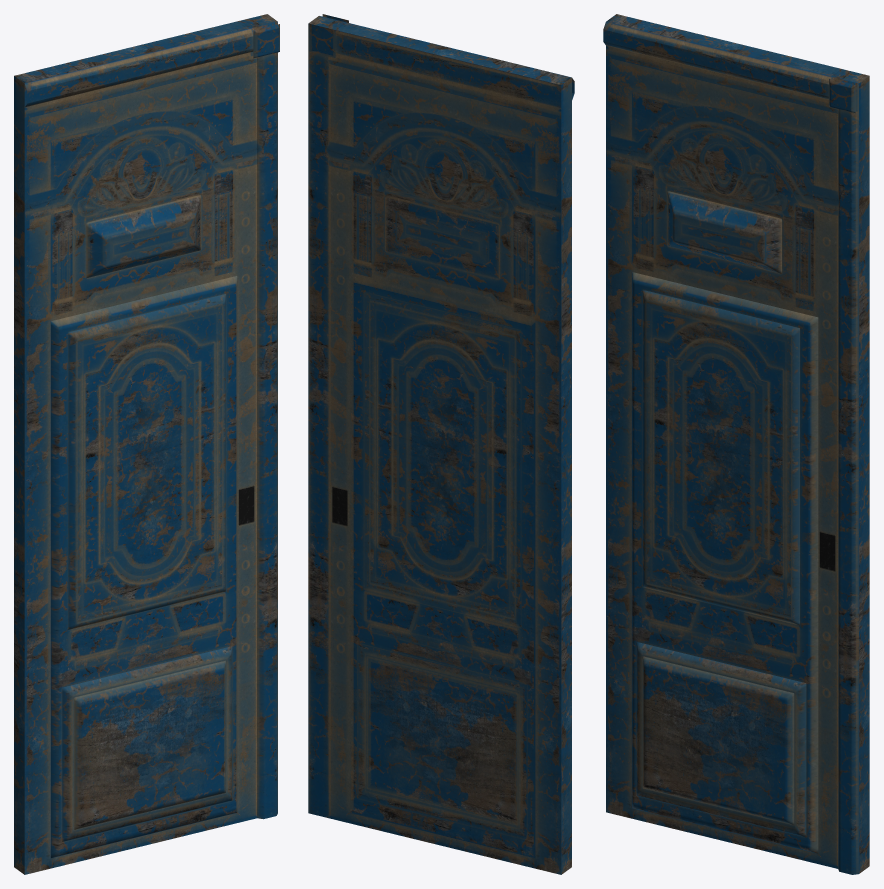
The model's file is SM_DoorLeft.FBX.
3 views of the same model, side by side, from view 1: azimuth 30°, elevation 25°; view 2: azimuth 150°, elevation 25°; view 3: azimuth 330°, elevation 25° (orthographic).
Visible parts, largest first — view 1: SM_DoorLeft; view 2: SM_DoorLeft; view 3: SM_DoorLeft.
Part boxes in pixels (x1,y1,x2,y2): SM_DoorLeft: (14,14,279,874); SM_DoorLeft: (308,14,574,874); SM_DoorLeft: (603,14,869,874).
Size of the model in its own units: 150 by 19.94 by 448.
